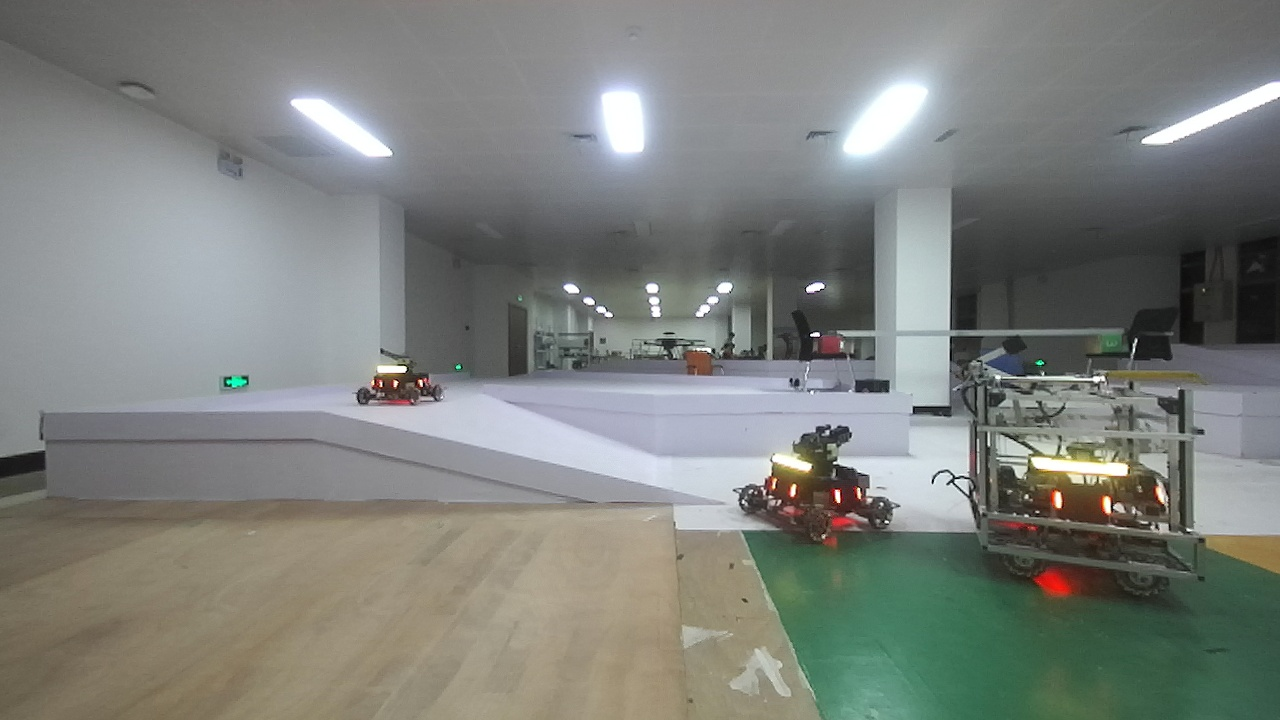car: (947, 348, 1218, 606), (726, 418, 905, 559), (336, 351, 461, 425)
